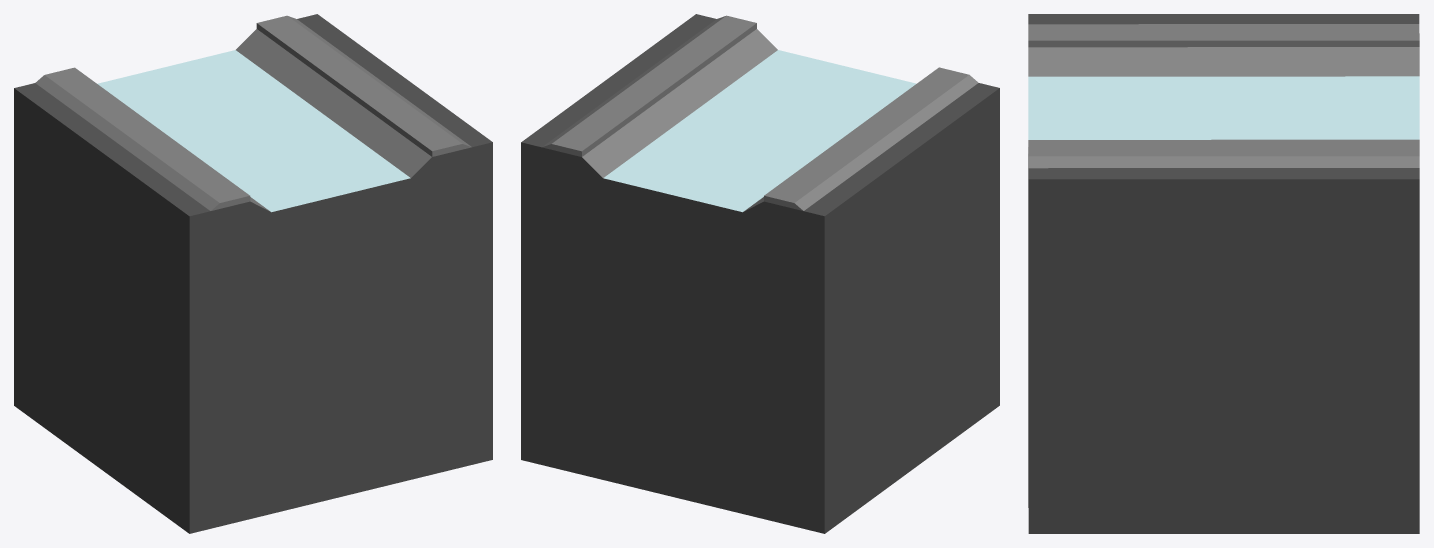
Rendered from blockRiverCityStraight.fbx.
3 renders of one model, left to right at view 1: azimuth 30°, elevation 25°; view 2: azimuth 150°, elevation 25°; view 3: azimuth 270°, elevation 25°, orthographic. The views are drawn at different scales.
Visible parts, largest first — view 1: blockRiverCityStraight; view 2: blockRiverCityStraight; view 3: blockRiverCityStraight.
Part boxes in pixels (x1,y1,x2,y2): blockRiverCityStraight: (14,14,492,533); blockRiverCityStraight: (521,14,999,533); blockRiverCityStraight: (1028,14,1419,533).
Bounding box in the file's own units: 100 × 102 × 100.
